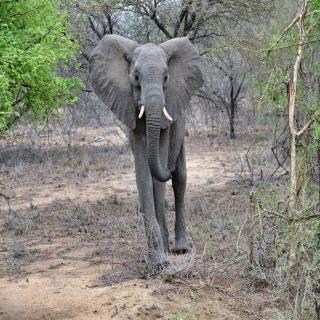Elephant: (86, 31, 207, 266)
